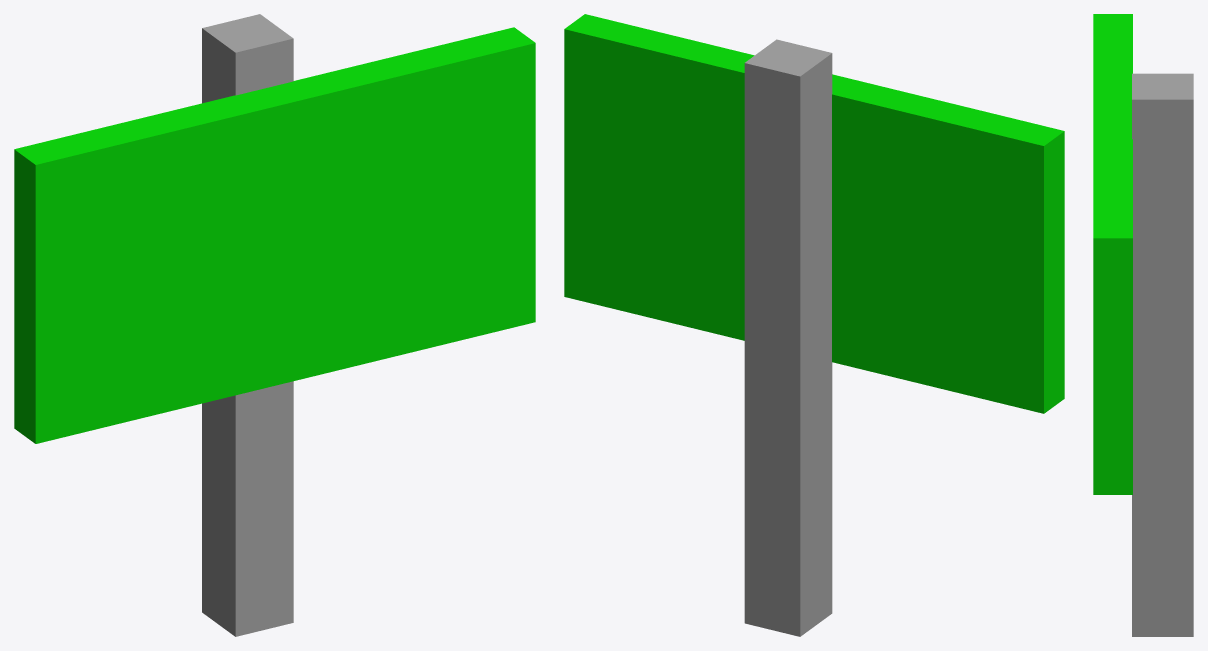
The model's file is Bang ten.fbx.
3 views of the same model, side by side, from view 1: azimuth 30°, elevation 25°; view 2: azimuth 150°, elevation 25°; view 3: azimuth 270°, elevation 25° (orthographic). The views are drawn at different scales.
Visible parts, largest first — view 1: pCube792; view 2: pCube792; view 3: pCube792.
Boxes of the visible parts, <box> form: pCube792: <box>14,14,535,636</box>; pCube792: <box>564,14,1064,636</box>; pCube792: <box>1093,14,1193,636</box>.
Size of the model in its own units: 7.07 by 7.89 by 1.34.
